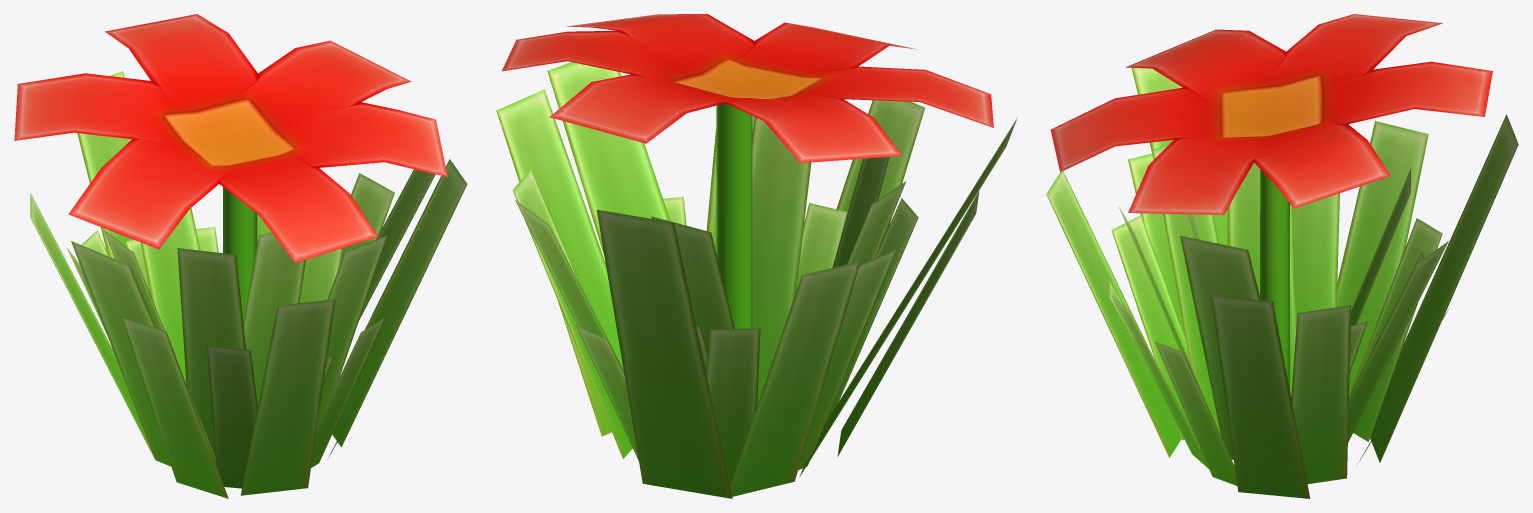
Rendered from SM_Flower_02_A.fbx.
The picture shows the model from 3 angles, left to right: view 1: azimuth 30°, elevation 25°; view 2: azimuth 150°, elevation 25°; view 3: azimuth 270°, elevation 25°; orthographic projection. The views are drawn at different scales.
Parts seen in each view (by area): view 1: polySurface688; view 2: polySurface688; view 3: polySurface688.
Part boxes in pixels (bbox=[...]): polySurface688: bbox=[14, 14, 467, 498]; polySurface688: bbox=[496, 14, 1017, 498]; polySurface688: bbox=[1046, 14, 1518, 498].
Size of the model in its own units: 24.97 by 20.99 by 24.
